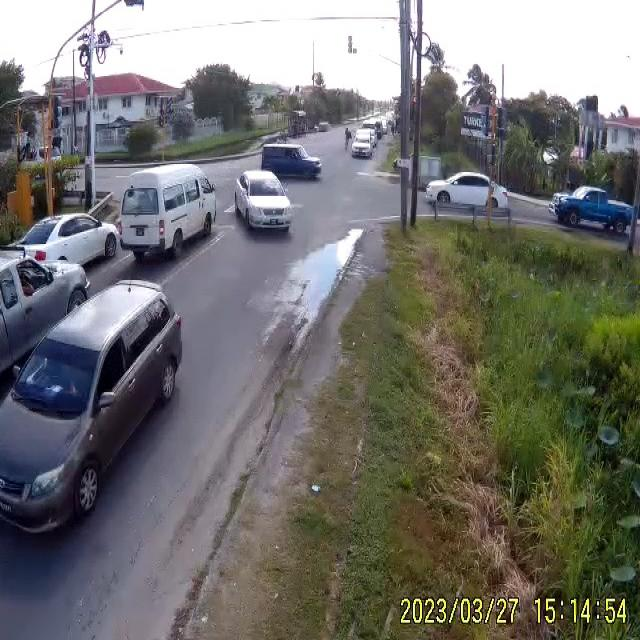car: (0, 285, 185, 525), (1, 253, 93, 419), (118, 166, 216, 264), (9, 213, 119, 268), (236, 172, 295, 232), (423, 173, 511, 213), (554, 190, 635, 232), (260, 142, 322, 180), (353, 127, 377, 157)
